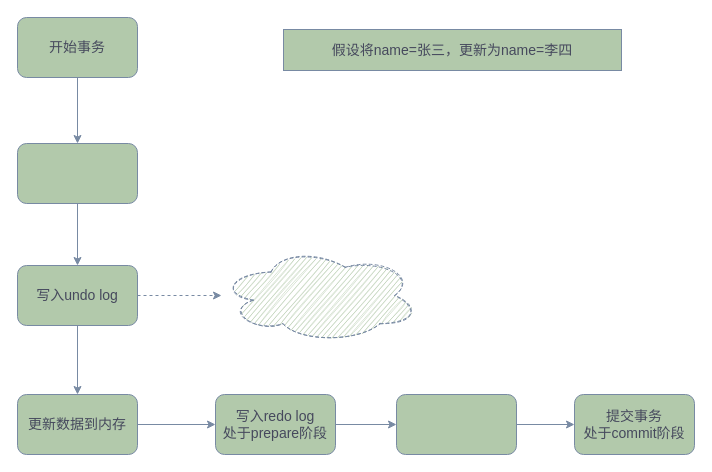
Some shapes in this 712 by 472 pixel diagram are drawn without their labels. The shapes that lost their labels are listed below. From the top down, each one's centre as x and y in pixels, then its label:
At (77,173): "获取数据".
At (320,295): "update name = ‘张三’ 写入undo log中，".
At (456,424): "写入binlog".
